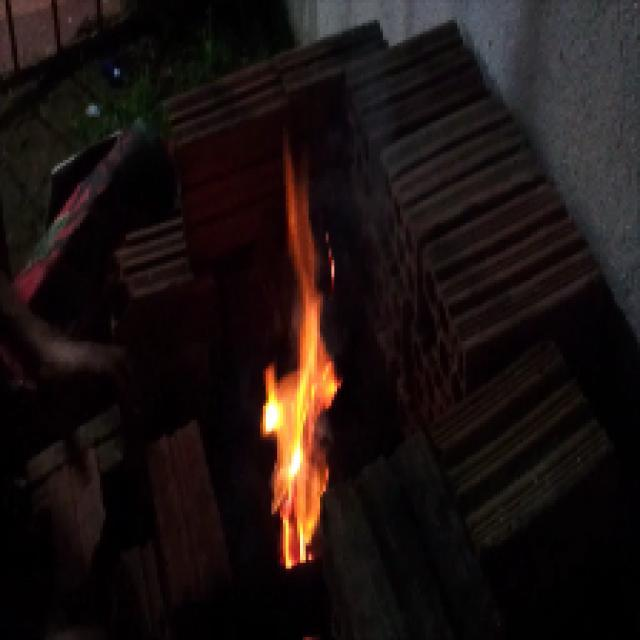Fire: (238, 193, 346, 575)
